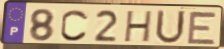2: (94, 9, 121, 43)
8: (27, 7, 56, 42)
C: (59, 8, 91, 43)
E: (185, 10, 219, 46)
H: (122, 9, 154, 44)
U: (154, 9, 188, 46)
